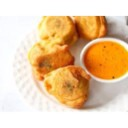bonda: (29, 38, 75, 75), (45, 68, 89, 105), (37, 14, 75, 45), (75, 15, 108, 38)
